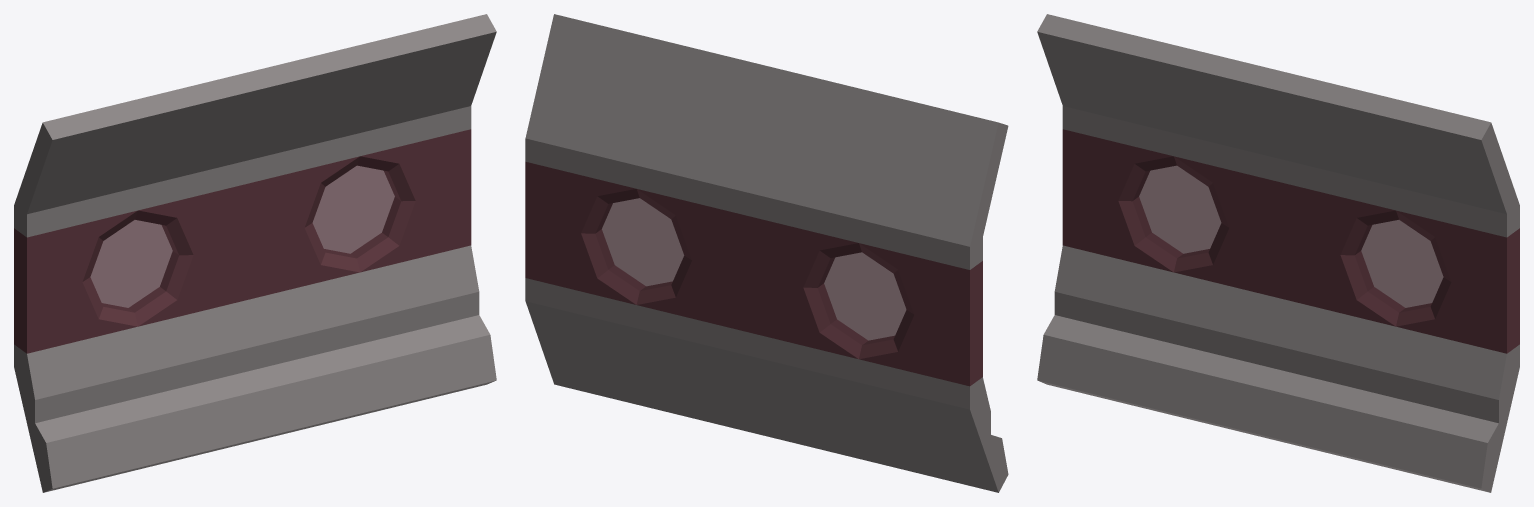
The model's file is scifi-windows-corridor-stripe.fbx.
The picture shows the model from 3 angles, left to right: view 1: azimuth 30°, elevation 25°; view 2: azimuth 150°, elevation 25°; view 3: azimuth 330°, elevation 25°; orthographic projection.
Parts seen in each view (by area): view 1: scifi-windows-corridor-stripe; view 2: scifi-windows-corridor-stripe; view 3: scifi-windows-corridor-stripe.
Boxes of the visible parts, bbox=[...] form: scifi-windows-corridor-stripe: bbox=[14, 14, 496, 492]; scifi-windows-corridor-stripe: bbox=[525, 14, 1008, 492]; scifi-windows-corridor-stripe: bbox=[1037, 14, 1519, 492].
Bounding box in the file's own units: 4 × 3.19 × 0.6.
